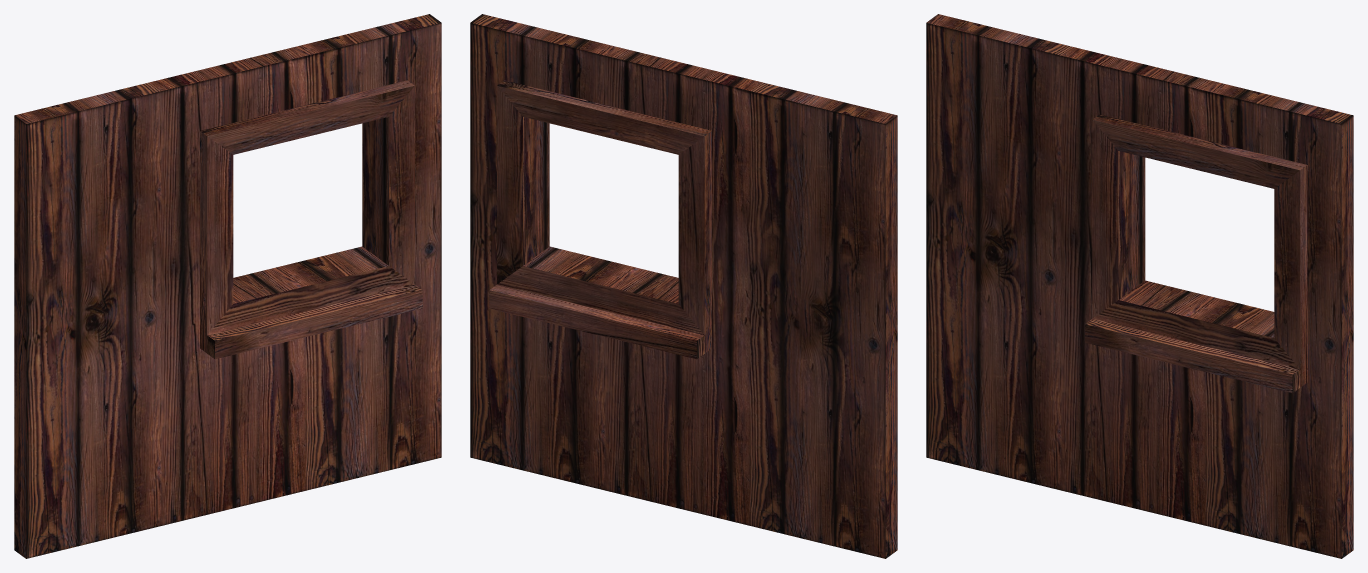
Rendered from ShackWindowed.fbx.
3 renders of one model, left to right at view 1: azimuth 30°, elevation 25°; view 2: azimuth 150°, elevation 25°; view 3: azimuth 330°, elevation 25°, orthographic.
Parts seen in each view (by area): view 1: ShackWindowed; view 2: ShackWindowed; view 3: ShackWindowed.
Part boxes in pixels (left/top/right/bottom): ShackWindowed: left=14, top=14, right=441, bottom=558; ShackWindowed: left=470, top=14, right=897, bottom=558; ShackWindowed: left=926, top=14, right=1353, bottom=558.
Size of the model in its own units: 200 by 200 by 35.06.
1 material, 1 textured.
